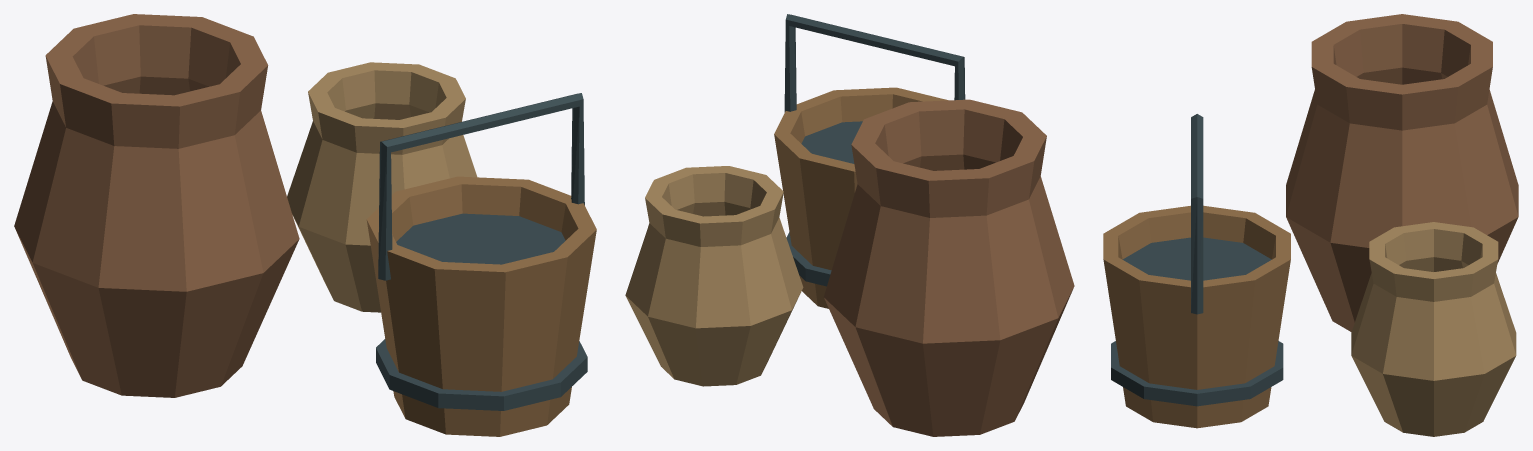
File: Prop_Daily_PotteryBucketSet_001_LOD1.glb
The picture shows the model from 3 angles, left to right: view 1: azimuth 30°, elevation 25°; view 2: azimuth 150°, elevation 25°; view 3: azimuth 270°, elevation 25°; orthographic projection. The views are drawn at different scales.
Parts seen in each view (by area): view 1: Prop_Daily_PotteryBucketSet_001_LOD1; view 2: Prop_Daily_PotteryBucketSet_001_LOD1; view 3: Prop_Daily_PotteryBucketSet_001_LOD1.
Boxes of the visible parts, x1,y1,x2,y2 form: Prop_Daily_PotteryBucketSet_001_LOD1: (14,14,596,436); Prop_Daily_PotteryBucketSet_001_LOD1: (625,14,1074,436); Prop_Daily_PotteryBucketSet_001_LOD1: (1103,14,1518,436).
Size of the model in its own units: 1.15 by 0.72 by 1.05.
